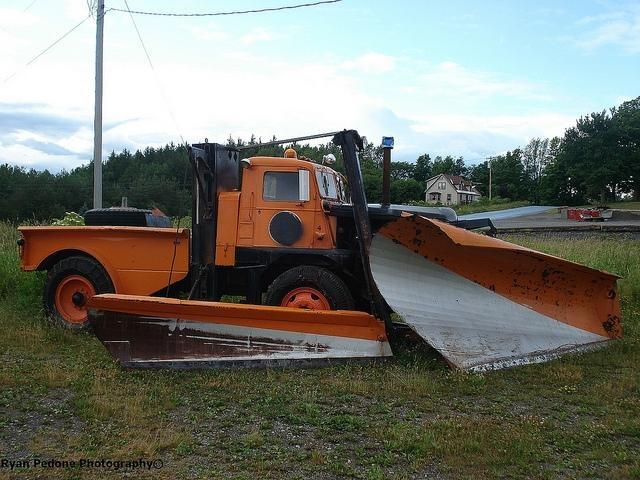truck: (16, 129, 498, 345)
